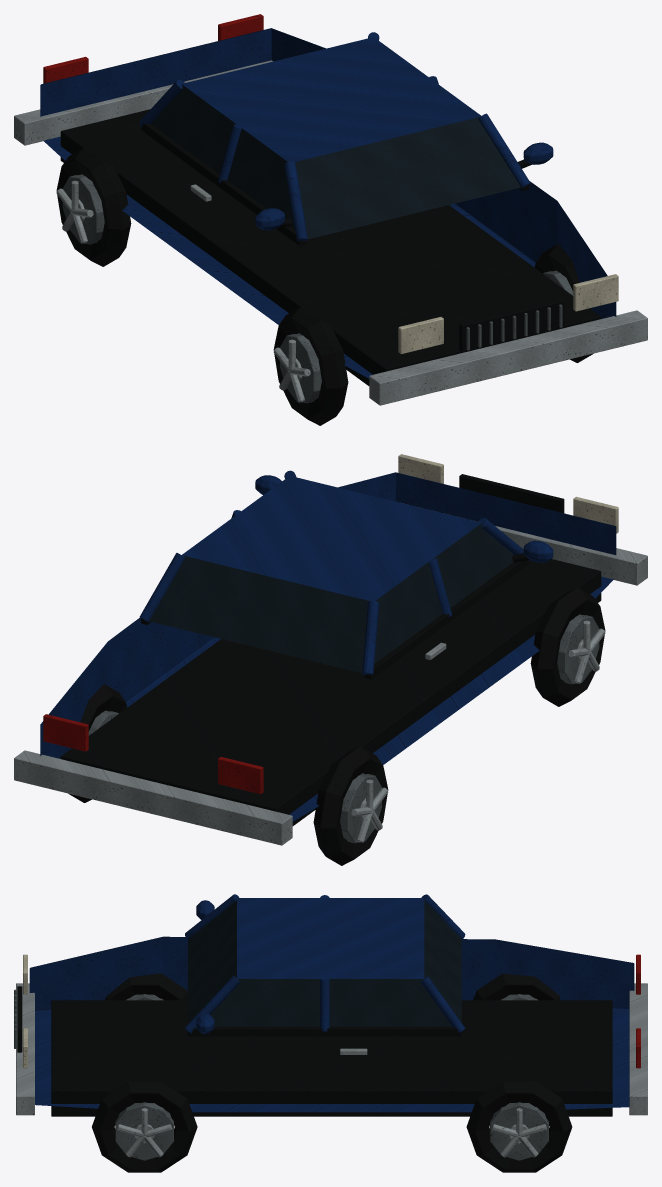
Rendered from PROP-6E33C62B2894_lod1.glb.
3 renders of one model, top to bottom at view 1: azimuth 30°, elevation 25°; view 2: azimuth 150°, elevation 25°; view 3: azimuth 270°, elevation 25°, orthographic. The views are drawn at different scales.
Visible parts, largest first — view 1: chassis.027, sloped_cabin_glazing.027, roof_panel.025, shaped_body_panels.027, bumper.027, tire.027, rim.027, window_pillars.027, lamp_lenses.054, radiator_grille.027, window_belt.027, rim_spokes.027 (+3 smaller); view 2: chassis.027, sloped_cabin_glazing.027, roof_panel.025, shaped_body_panels.027, bumper.027, tire.027, rim.027, window_pillars.027, lamp_lenses.055, window_belt.027, lamp_lenses.054, rim_spokes.027 (+2 smaller); view 3: chassis.027, shaped_body_panels.027, sloped_cabin_glazing.027, roof_panel.025, tire.027, rim.027, bumper.027, window_belt.027, window_pillars.027, rim_spokes.027, mirror.027, lamp_lenses.054 (+1 smaller).
Boxes of the visible parts, x1=… form: chassis.027: x1=60, y1=109, x2=601, y2=385; sloped_cabin_glazing.027: x1=151, y1=84, x2=520, y2=239; roof_panel.025: x1=182, y1=37, x2=480, y2=161; shaped_body_panels.027: x1=40, y1=28, x2=616, y2=378; bumper.027: x1=14, y1=60, x2=647, y2=405; tire.027: x1=56, y1=147, x2=593, y2=425; rim.027: x1=62, y1=174, x2=573, y2=403; window_pillars.027: x1=139, y1=32, x2=530, y2=241; lamp_lenses.054: x1=398, y1=274, x2=618, y2=354; radiator_grille.027: x1=459, y1=299, x2=564, y2=352; window_belt.027: x1=141, y1=123, x2=529, y2=245; rim_spokes.027: x1=56, y1=180, x2=310, y2=402; chassis.027: x1=60, y1=559, x2=601, y2=825; sloped_cabin_glazing.027: x1=149, y1=523, x2=513, y2=672; roof_panel.025: x1=182, y1=476, x2=481, y2=600; shaped_body_panels.027: x1=40, y1=472, x2=616, y2=821; bumper.027: x1=14, y1=526, x2=647, y2=845; tire.027: x1=68, y1=587, x2=605, y2=865; rim.027: x1=88, y1=614, x2=599, y2=843; window_pillars.027: x1=139, y1=470, x2=529, y2=675; lamp_lenses.055: x1=43, y1=714, x2=263, y2=794; window_belt.027: x1=141, y1=560, x2=529, y2=679; lamp_lenses.054: x1=398, y1=454, x2=618, y2=533; rim_spokes.027: x1=351, y1=620, x2=605, y2=842; chassis.027: x1=51, y1=1000, x2=612, y2=1116; shaped_body_panels.027: x1=29, y1=936, x2=634, y2=1112; sloped_cabin_glazing.027: x1=188, y1=899, x2=461, y2=1026; roof_panel.025: x1=237, y1=898, x2=424, y2=978; tire.027: x1=92, y1=973, x2=572, y2=1172; rim.027: x1=115, y1=994, x2=548, y2=1160; bumper.027: x1=16, y1=983, x2=647, y2=1115; window_belt.027: x1=188, y1=1026, x2=461, y2=1036; window_pillars.027: x1=185, y1=894, x2=465, y2=1033; rim_spokes.027: x1=117, y1=1108, x2=546, y2=1157; mirror.027: x1=196, y1=900, x2=214, y2=1033; lamp_lenses.054: x1=23, y1=954, x2=27, y2=1068.
Bounding box in the file's own units: 2.09 × 1.4 × 4.41.
8 materials, 8 textured.
